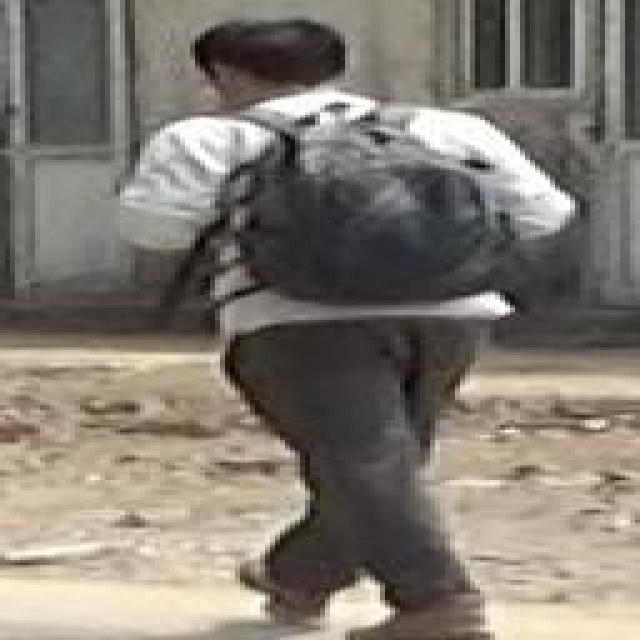adult: (115, 17, 587, 638)
